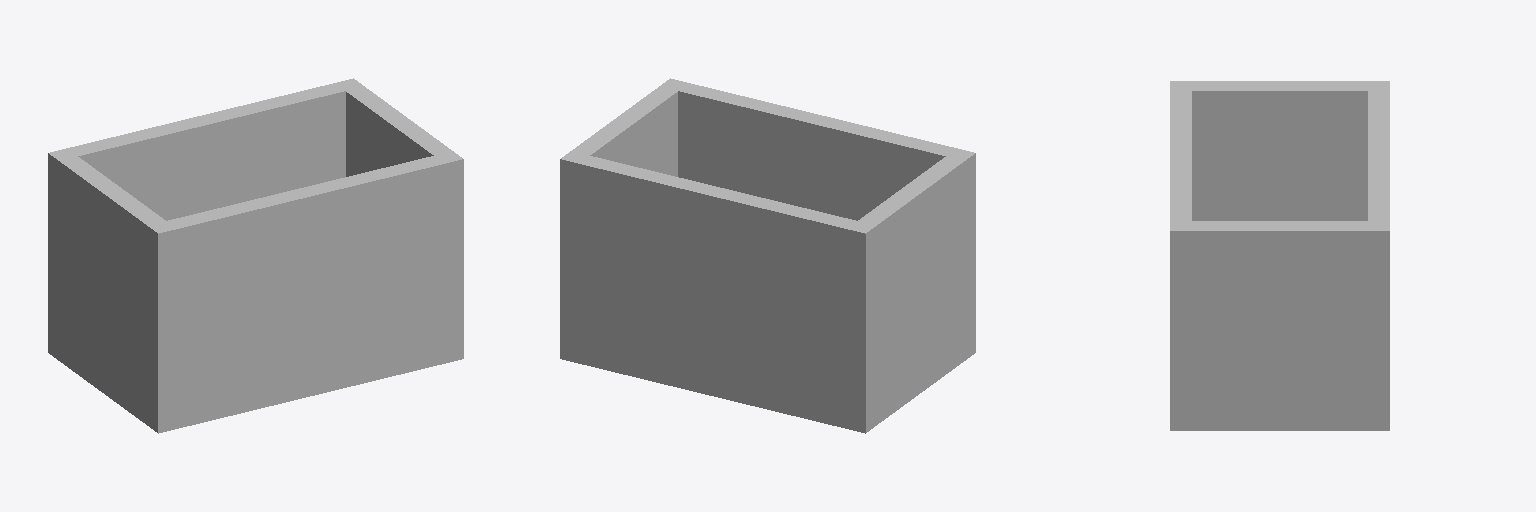
Rendered from Combined_TrashCan_S0.001.obj.
3 views of the same model, side by side, from view 1: azimuth 30°, elevation 25°; view 2: azimuth 150°, elevation 25°; view 3: azimuth 270°, elevation 25° (orthographic).
Parts seen in each view (by area): view 1: obj_0.001; view 2: obj_0.001; view 3: obj_0.001.
Boxes of the visible parts, x1=… form: obj_0.001: x1=48, y1=78, x2=463, y2=433; obj_0.001: x1=560, y1=78, x2=975, y2=433; obj_0.001: x1=1170, y1=81, x2=1389, y2=430.
Size of the model in its own units: 0.8 by 0.5 by 0.5.